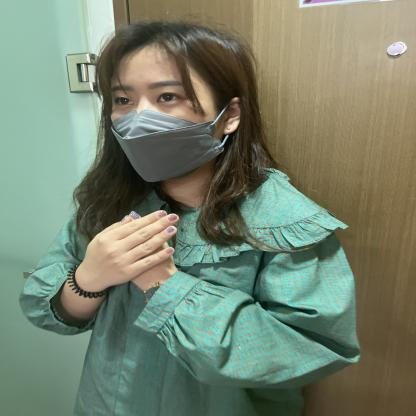Grieve: (47, 192, 218, 306)
